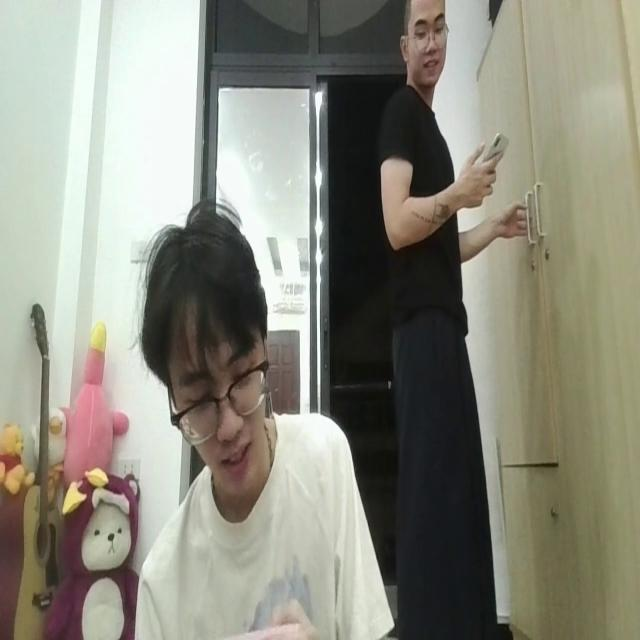extra_person: (376, 0, 504, 640)
phone: (476, 122, 509, 175)
student: (119, 193, 391, 640)
